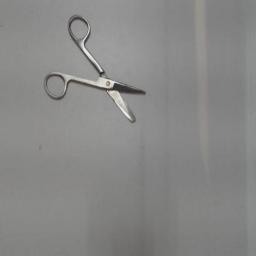Dressing Scissors: (38, 9, 152, 129)
